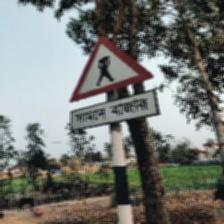Market-in-front: (67, 35, 160, 132)
